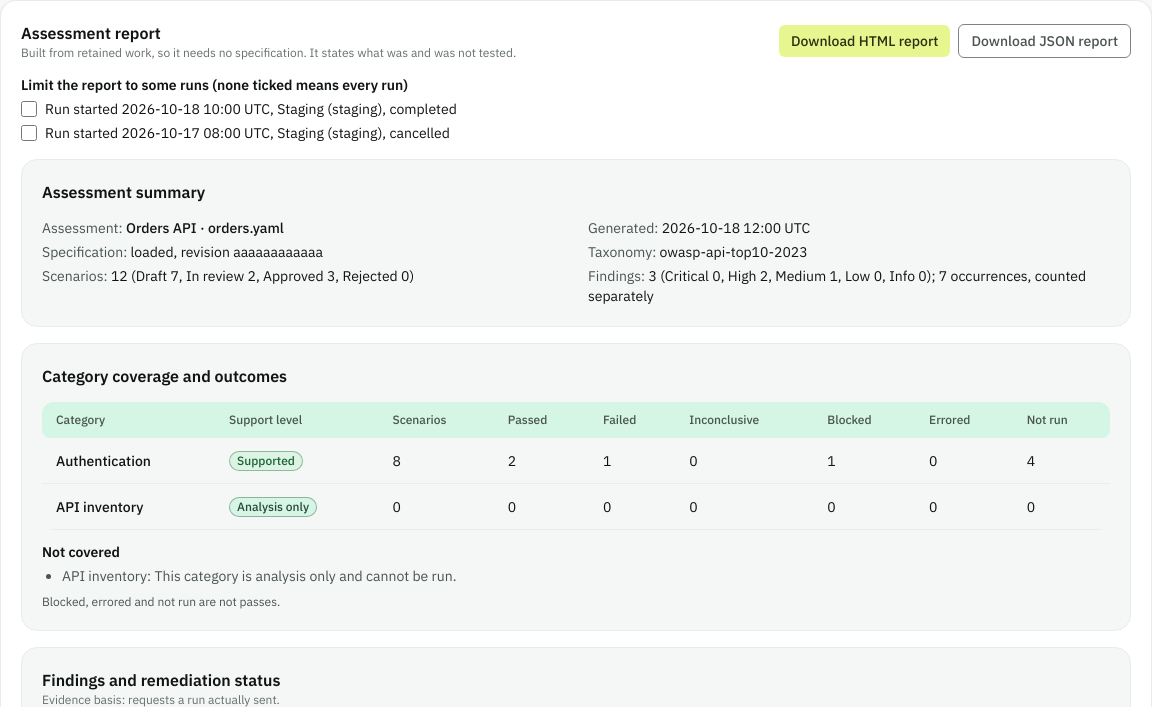
Test: ReportsArea (T128, T134, FR-061, FR-062) › download › downloads the HTML report through the client and hands the file to the browser
This screenshot has width=1152, height=707.
Click the button "Download HTML report": (865, 41) [779,25,950,57]
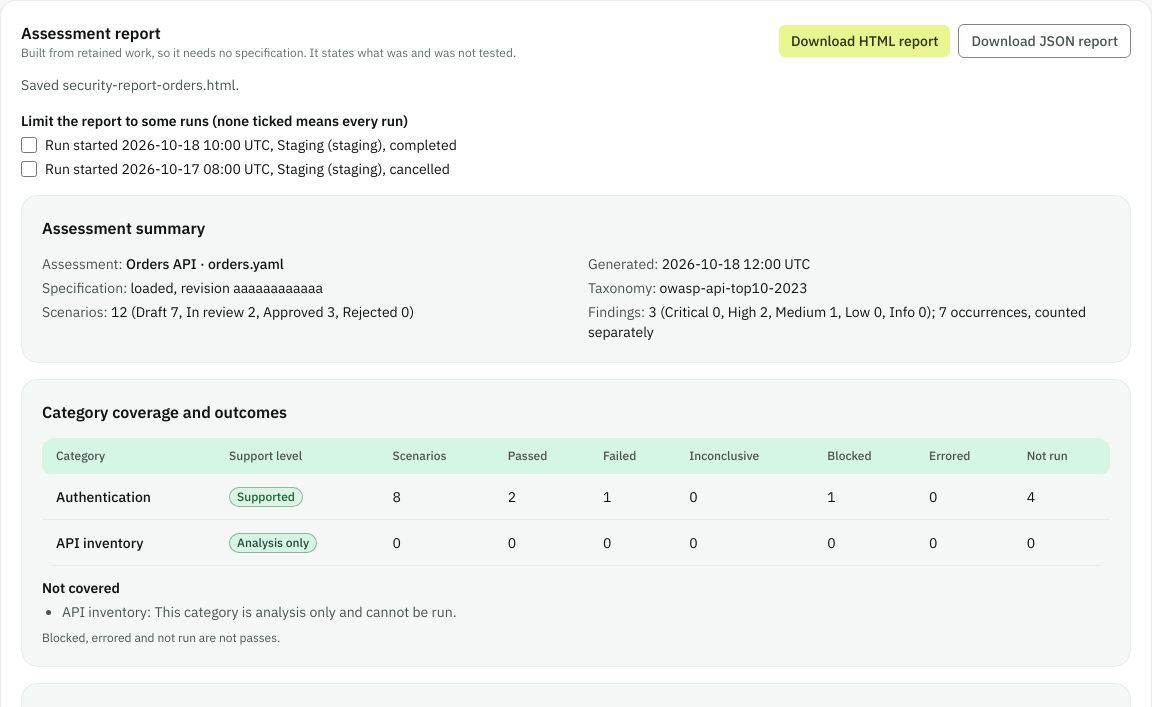
Check: the message with test id "report-downloaded" reads "Saved security-report-orders.html.", box [21,76,239,94]
